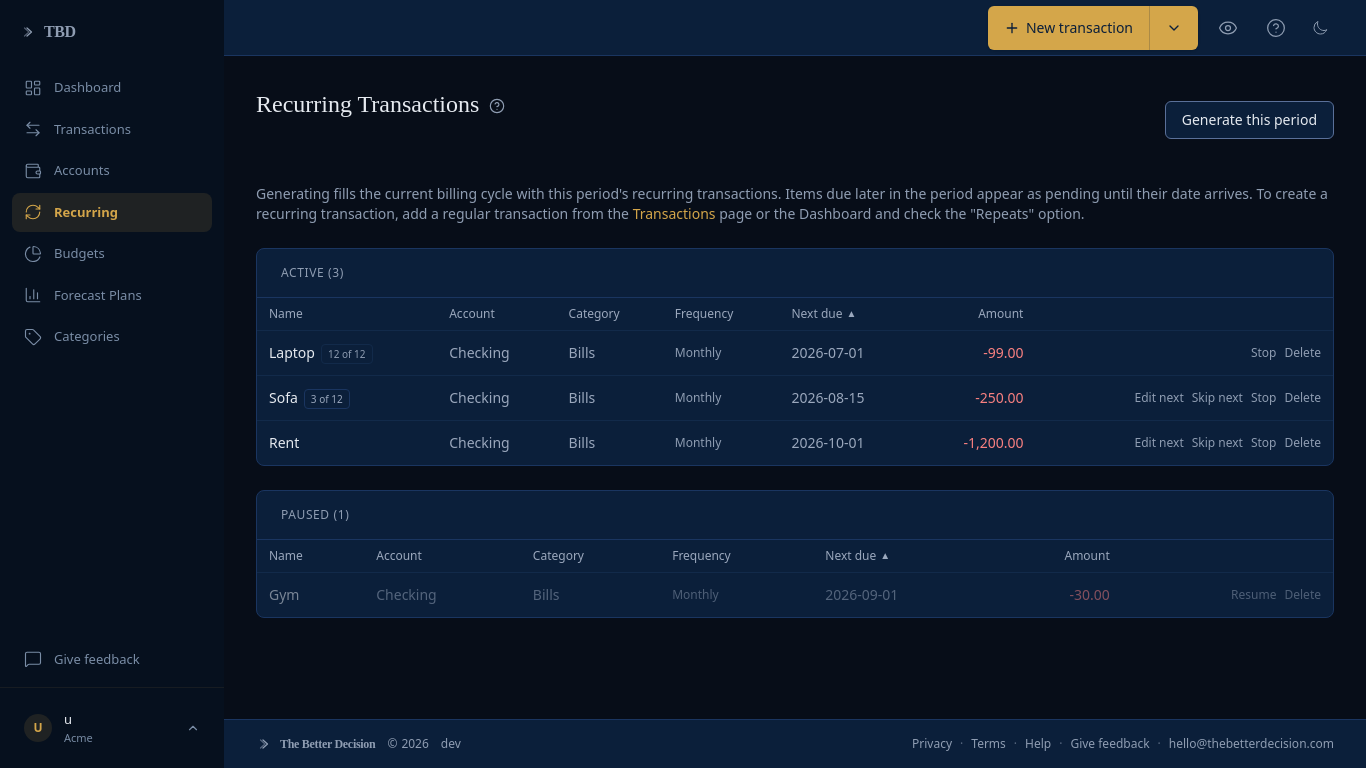
Test: recurring page: skip next (TBD-272) › F1: POSTs the row's own next_due_date to the row's id, then reloads
This screenshot has width=1366, height=768.
Click the button with aria-label "Skip next: Rent" at coordinates (1217, 443), box [1192, 435, 1243, 451]
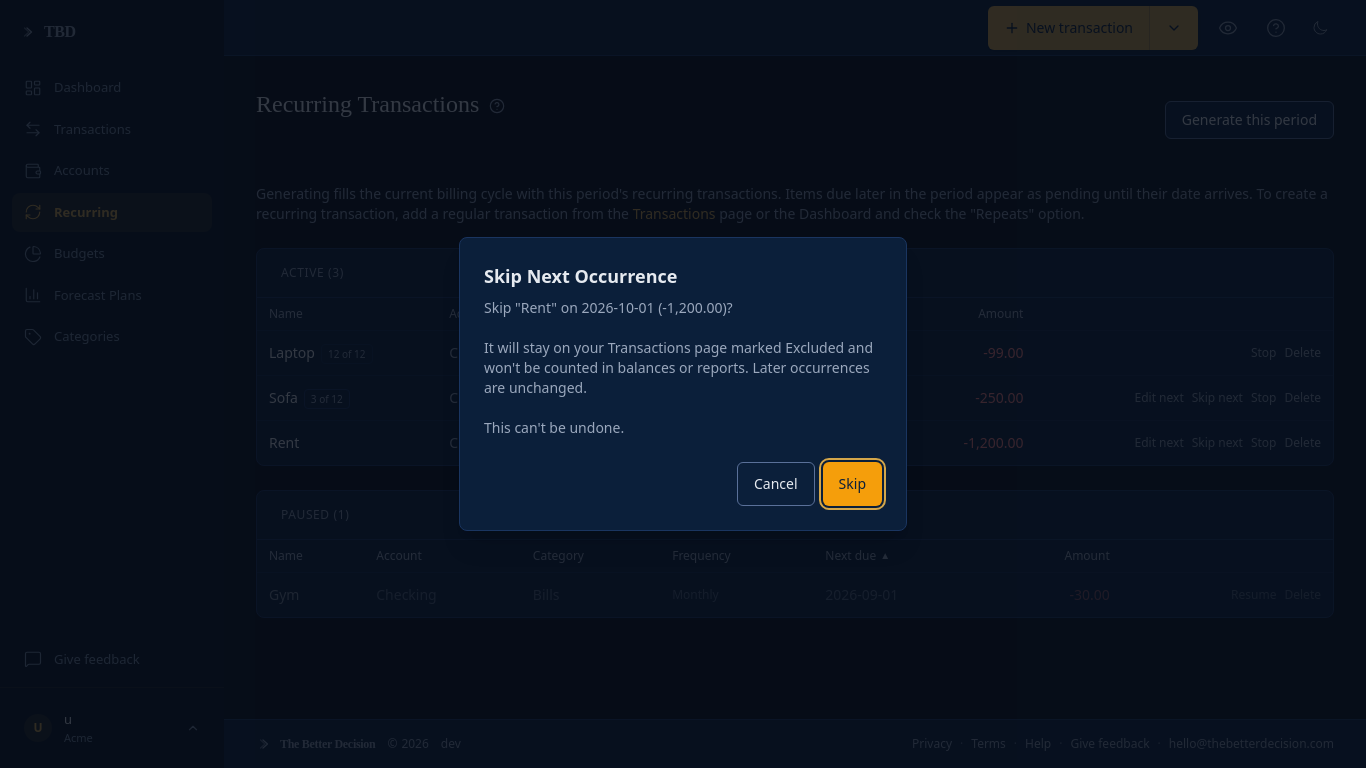
Click the button "Skip" at coordinates (852, 484), box [823, 462, 882, 506]
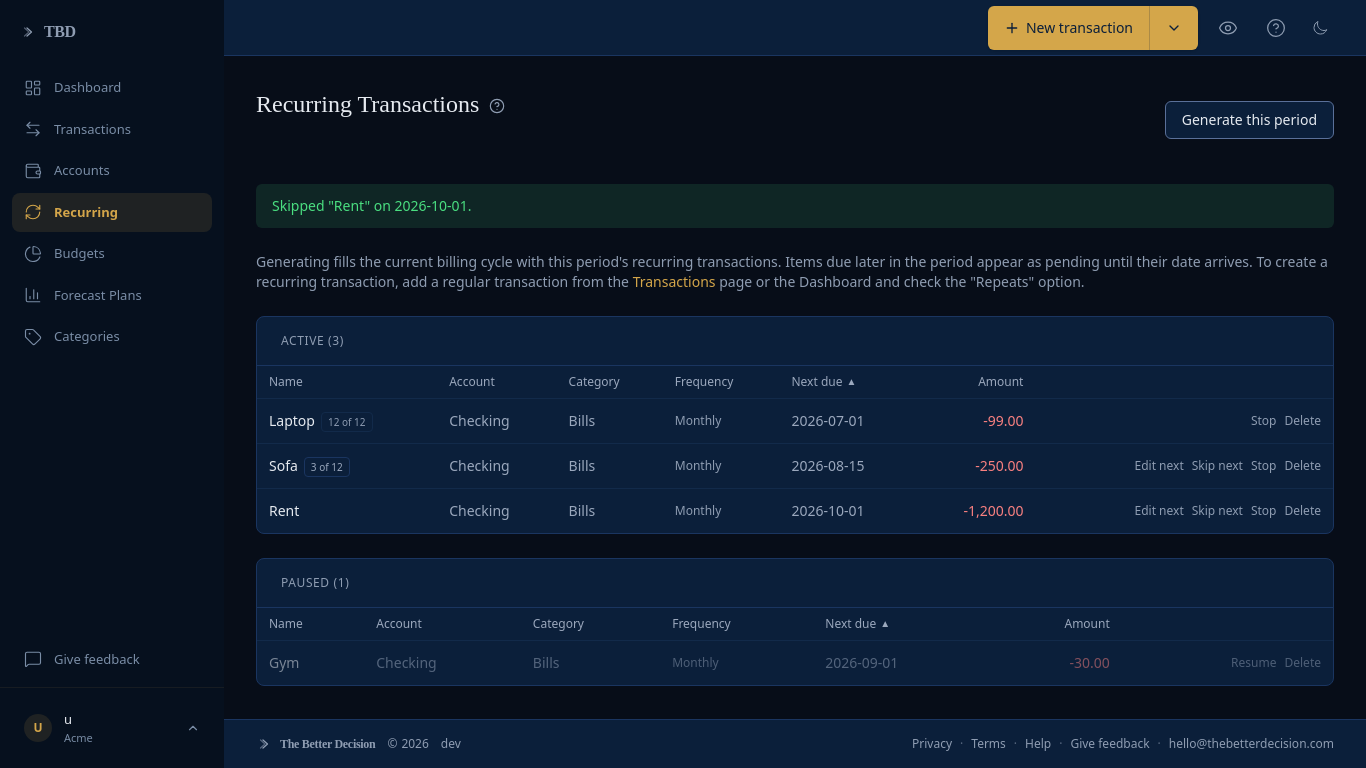
expect the dialog is gone: met
expect the text "Skipped \"Rent\" on 2026-10-01." is shown: met, box [256, 184, 1334, 228]
